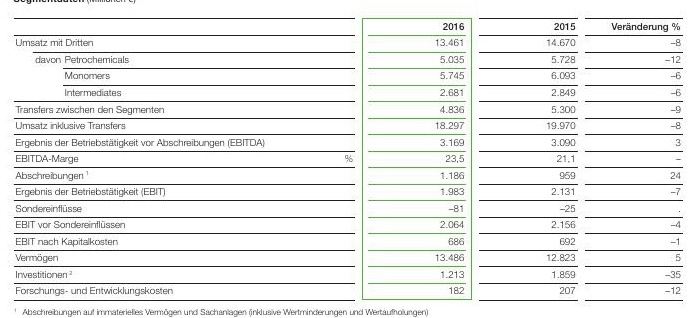table: (0, 0, 698, 318)
